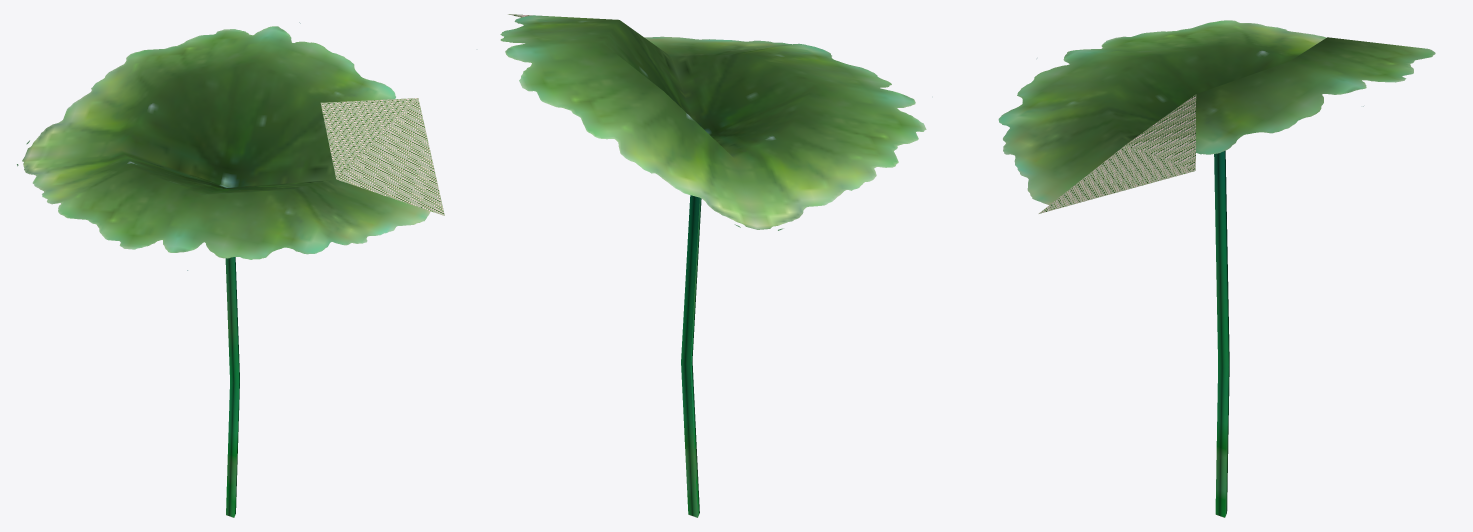
Rendered from cj_luoyang_hehua03_55_45_7020out.fbx.
The picture shows the model from 3 angles, left to right: view 1: azimuth 30°, elevation 25°; view 2: azimuth 150°, elevation 25°; view 3: azimuth 270°, elevation 25°; orthographic projection. The views are drawn at different scales.
Visible parts, largest first — view 1: cj_luoyang_hehua03; view 2: cj_luoyang_hehua03; view 3: cj_luoyang_hehua03.
Part boxes in pixels (bbox=[...]): cj_luoyang_hehua03: bbox=[17, 22, 444, 517]; cj_luoyang_hehua03: bbox=[500, 14, 926, 517]; cj_luoyang_hehua03: bbox=[998, 20, 1435, 517].
Bounding box in the file's own units: 2.73 × 3.01 × 2.71.
